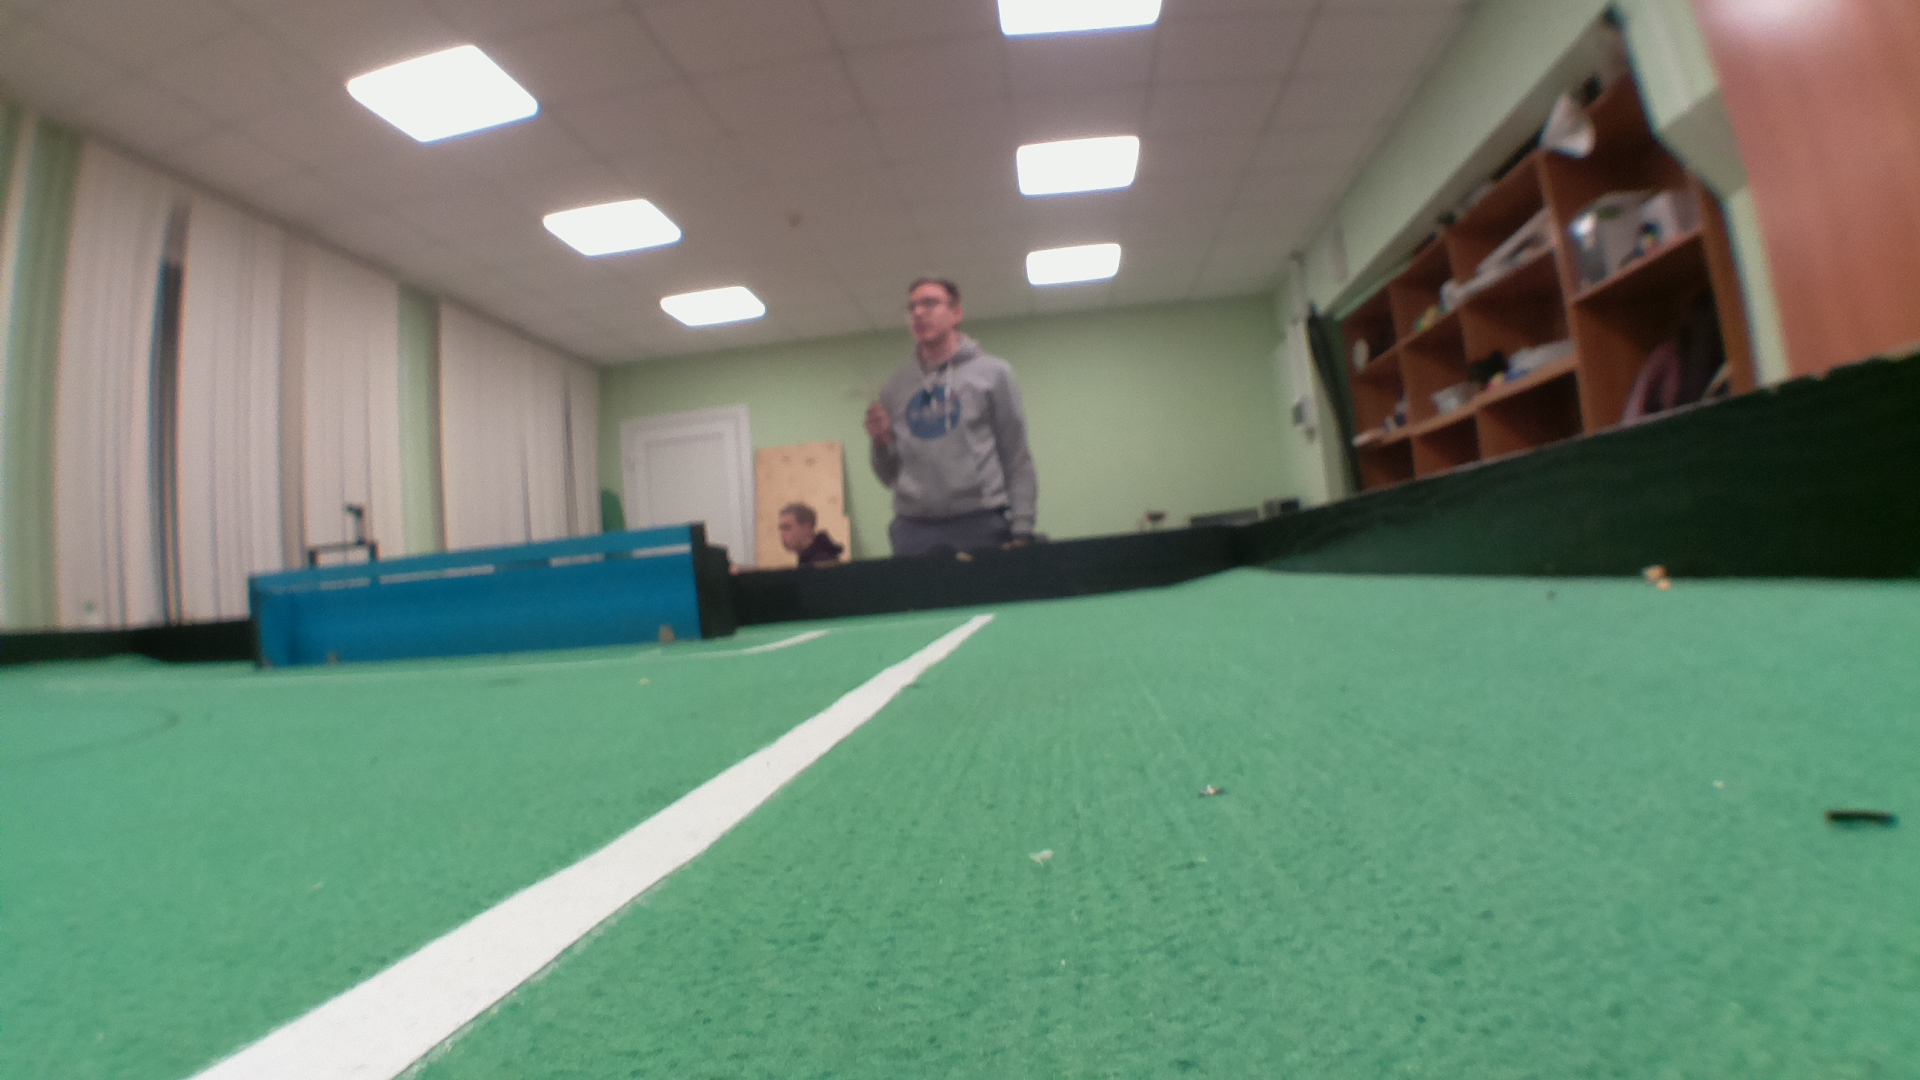BlueGoal: (256, 524, 694, 669)
